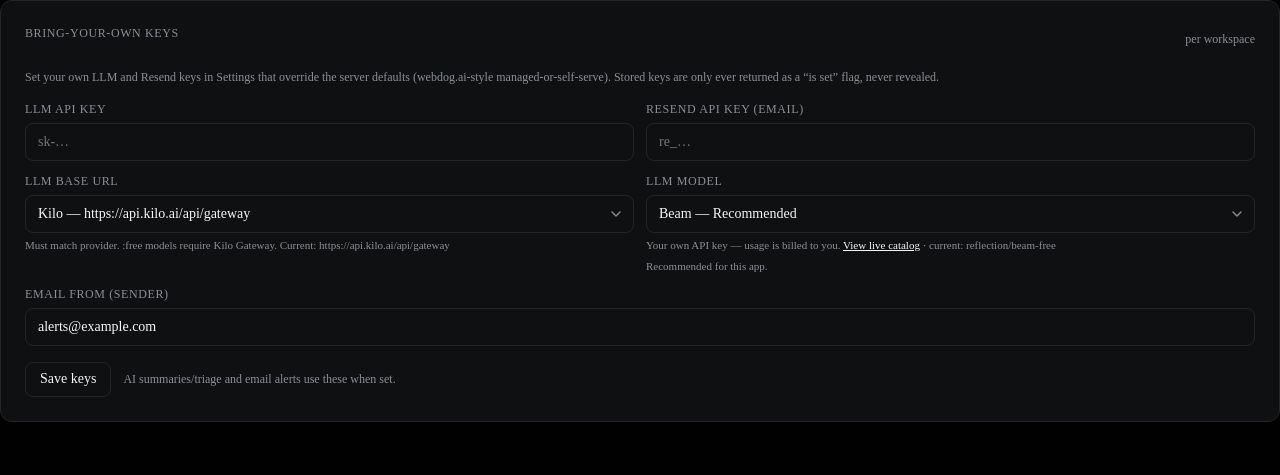
it: WorkspaceKeys › shows a save error when the API rejects the configuration
Type "sk-private-value" into the password field with placeholder "sk-…". click: (330, 142)
box: [25,123,634,161]
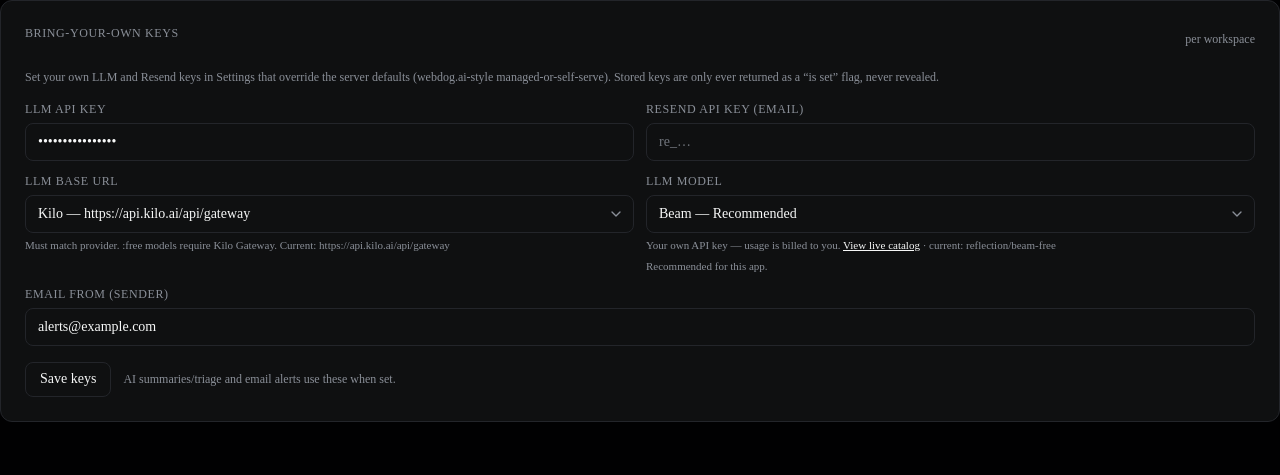
Click the button "Save keys". click: (68, 379)
box: [25,362,111,397]
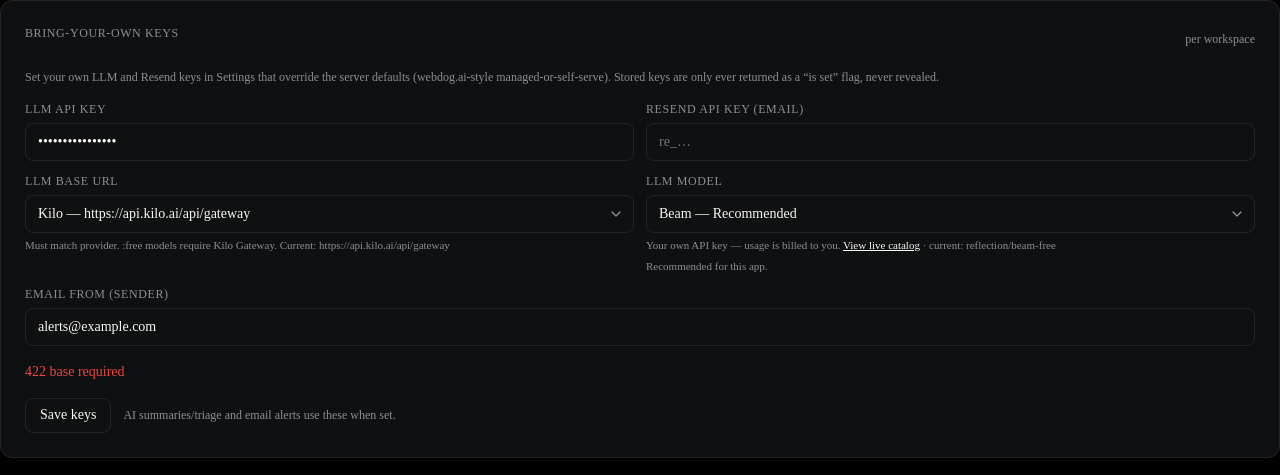
Expected: the text "422 base required" is shown, [25,364,124,379]
